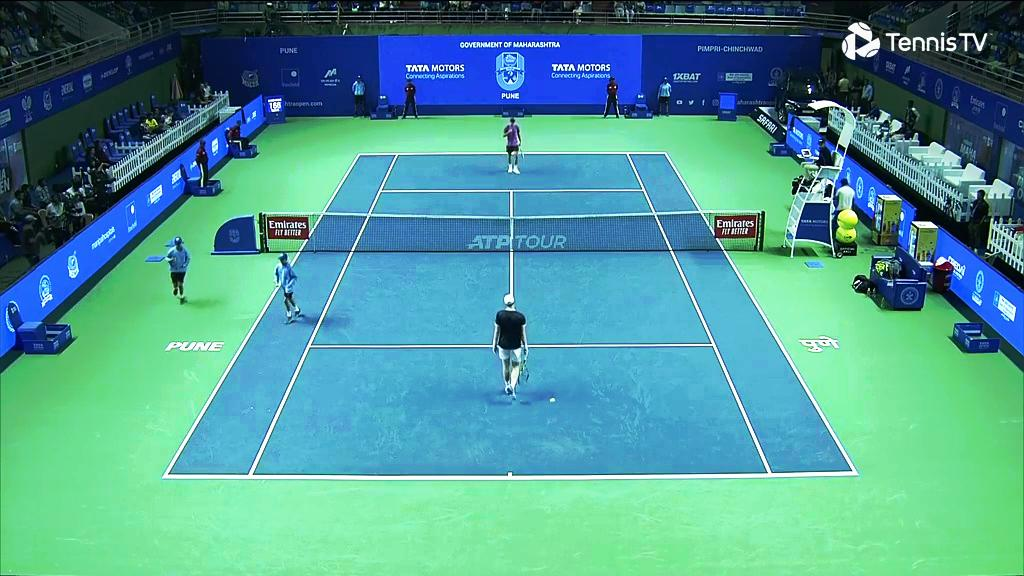tennis-court: (161, 153, 859, 479)
